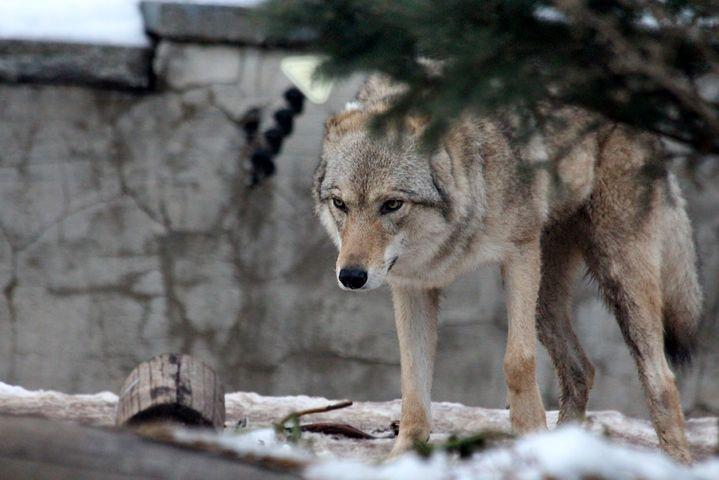Wolf: (312, 70, 706, 473)
